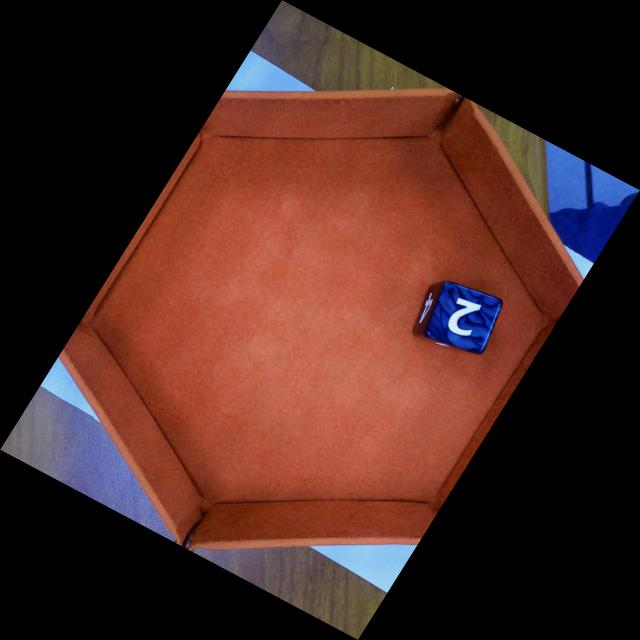dice: (423, 281, 504, 356)
